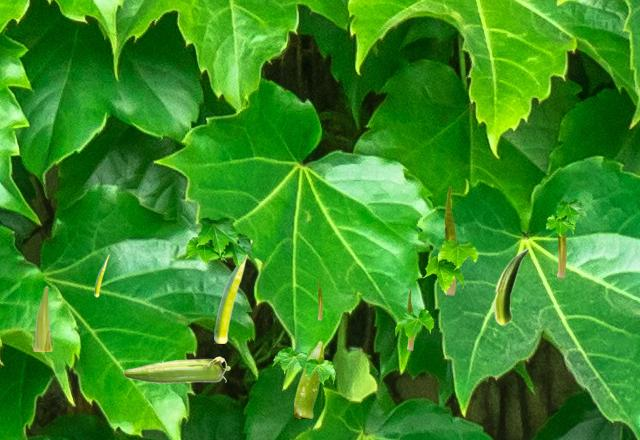okra: (214, 239, 251, 342), (123, 356, 229, 382), (493, 248, 528, 325), (294, 340, 323, 417), (31, 286, 52, 350), (444, 186, 456, 294), (557, 200, 565, 277), (94, 254, 108, 296), (407, 290, 413, 349), (318, 277, 321, 319)
